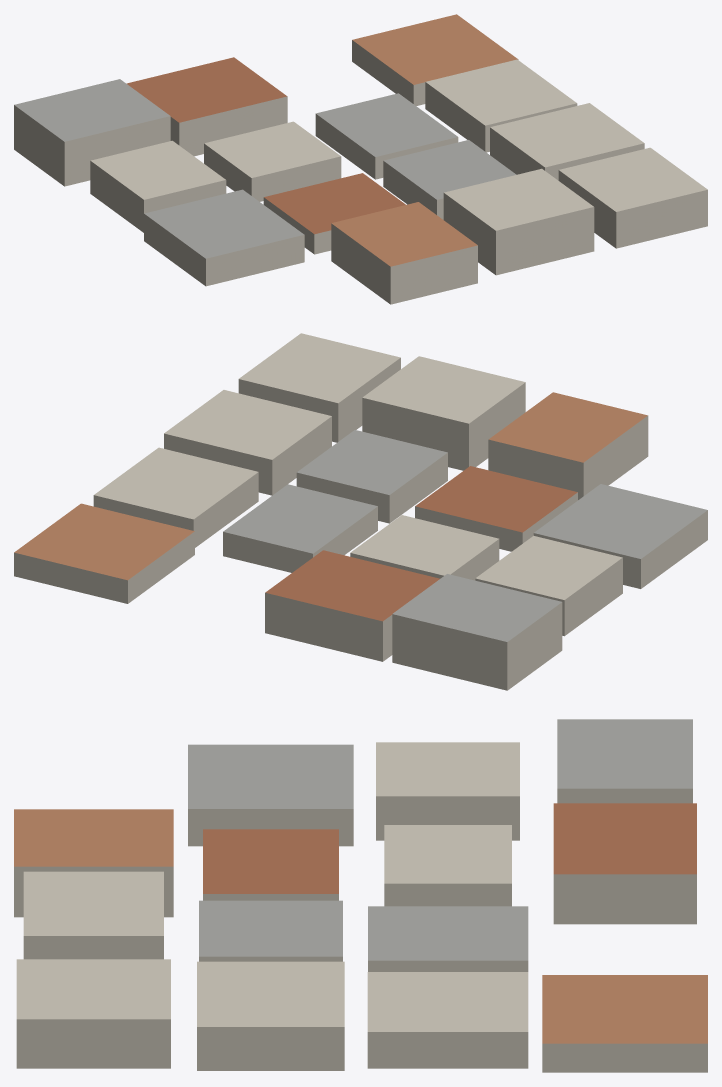
Rendered from quadra_3.glb.
3 renders of one model, top to bottom at view 1: azimuth 30°, elevation 25°; view 2: azimuth 150°, elevation 25°; view 3: azimuth 270°, elevation 25°, orthographic. The views are drawn at different scales.
Parts seen in each view (by area): view 1: d, c, b, a; view 2: d, c, b, a; view 3: d, c, b, a.
Boxes of the visible parts, bbox=[...] form: d: bbox=[14, 40, 707, 304]; c: bbox=[14, 79, 516, 258]; b: bbox=[331, 14, 517, 266]; a: bbox=[126, 57, 405, 234]; d: bbox=[14, 333, 707, 690]; c: bbox=[223, 430, 707, 641]; b: bbox=[14, 392, 647, 580]; a: bbox=[265, 466, 577, 621]; d: bbox=[14, 742, 707, 1072]; c: bbox=[188, 719, 692, 960]; b: bbox=[14, 809, 707, 1043]; a: bbox=[203, 803, 696, 893].
Size of the model in its own units: 82.36 by 7.85 by 82.28.
